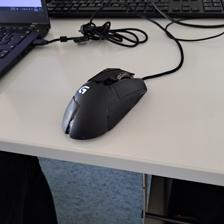mouse: (61, 67, 147, 141)
